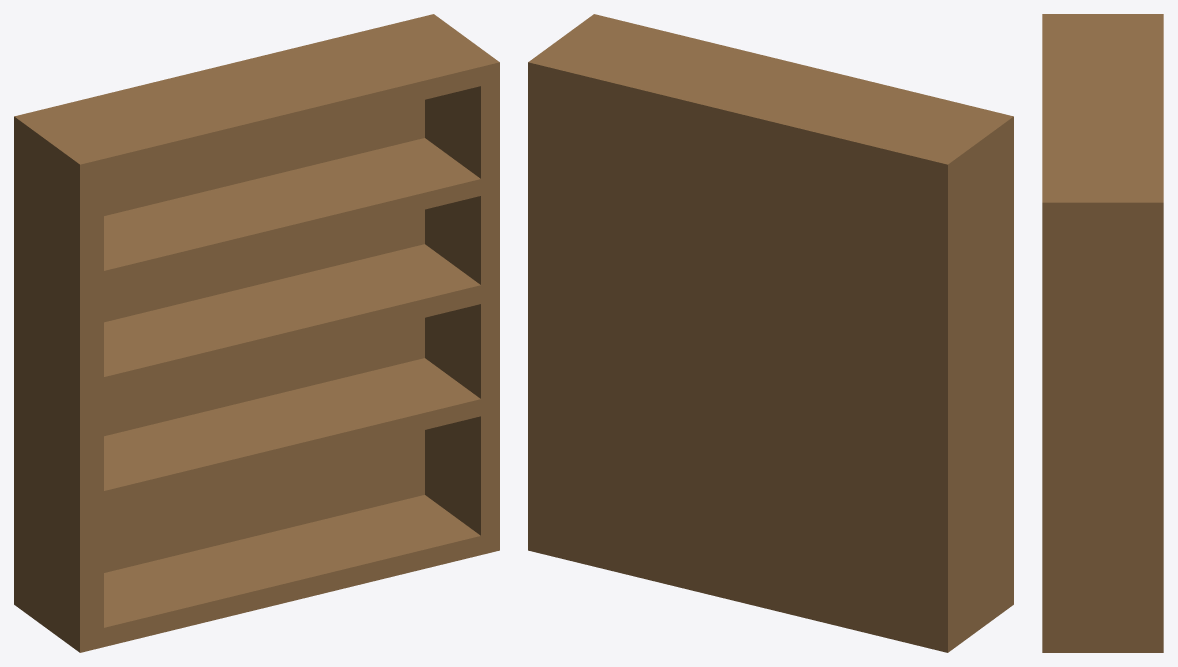
Rendered from Shelf.fbx.
3 renders of one model, left to right at view 1: azimuth 30°, elevation 25°; view 2: azimuth 150°, elevation 25°; view 3: azimuth 270°, elevation 25°, orthographic. The views are drawn at different scales.
Parts seen in each view (by area): view 1: pCube1; view 2: pCube1; view 3: pCube1.
Part boxes in pixels (bbox=[...]): pCube1: bbox=[14, 14, 499, 652]; pCube1: bbox=[528, 14, 1013, 652]; pCube1: bbox=[1042, 14, 1163, 652].
Size of the model in its own units: 0.378 by 0.4202 by 0.1029.
